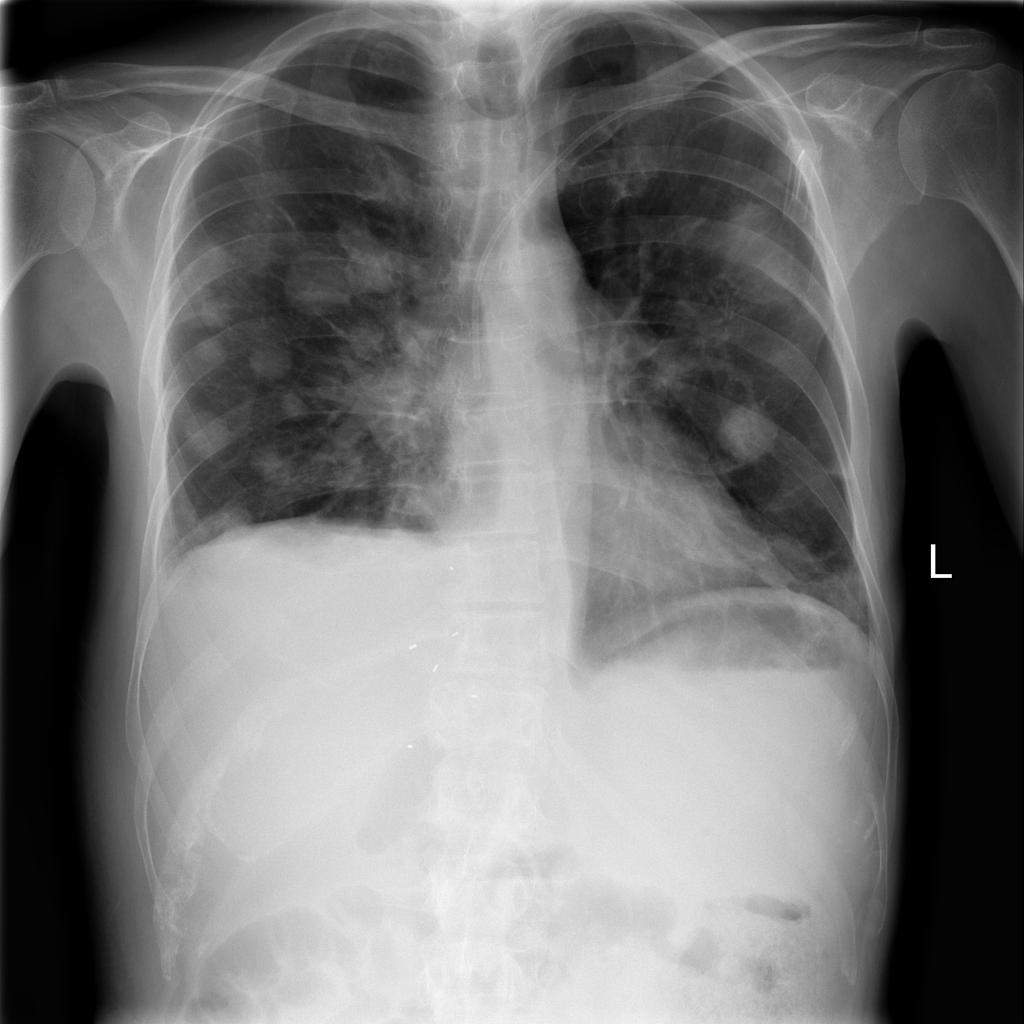nodule: (335, 335, 455, 463), (702, 190, 818, 320), (273, 236, 355, 317), (708, 391, 787, 469), (340, 224, 413, 300), (183, 494, 270, 557), (173, 235, 249, 306), (747, 526, 825, 593), (172, 403, 245, 467), (179, 276, 251, 340), (329, 311, 397, 374), (242, 335, 301, 384), (244, 440, 302, 488), (181, 319, 236, 369)
